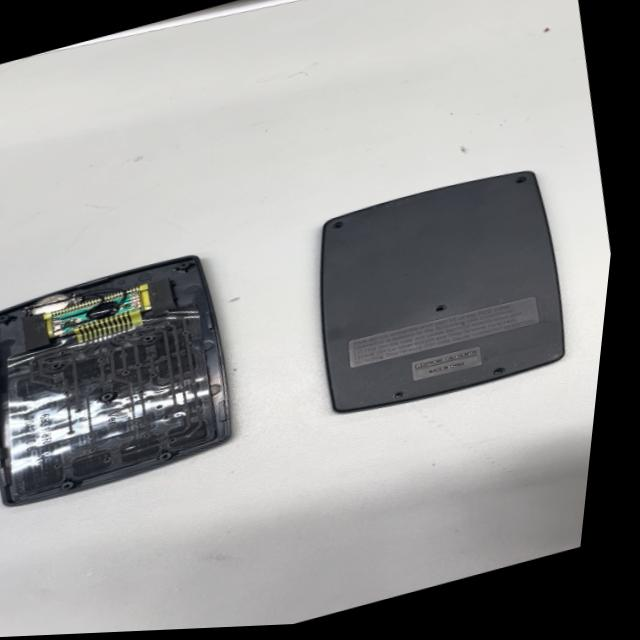back_cover: (283, 133, 612, 433)
front_panel: (0, 237, 263, 526)
